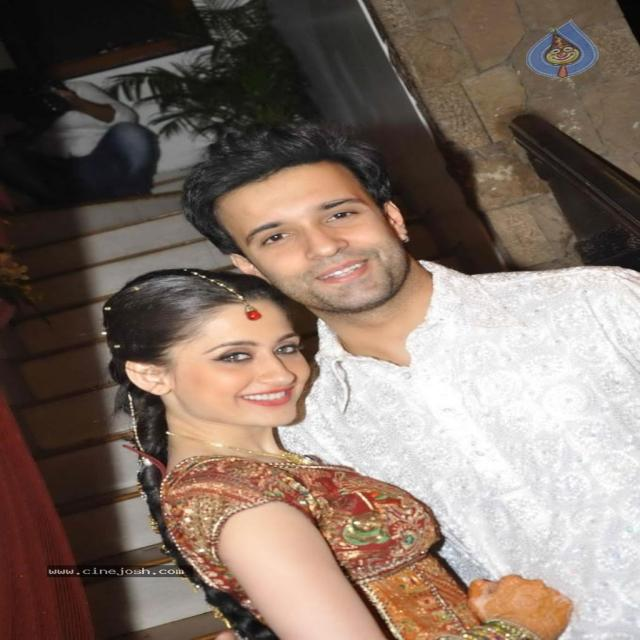Face: (214, 169, 415, 307), (141, 299, 324, 426)
